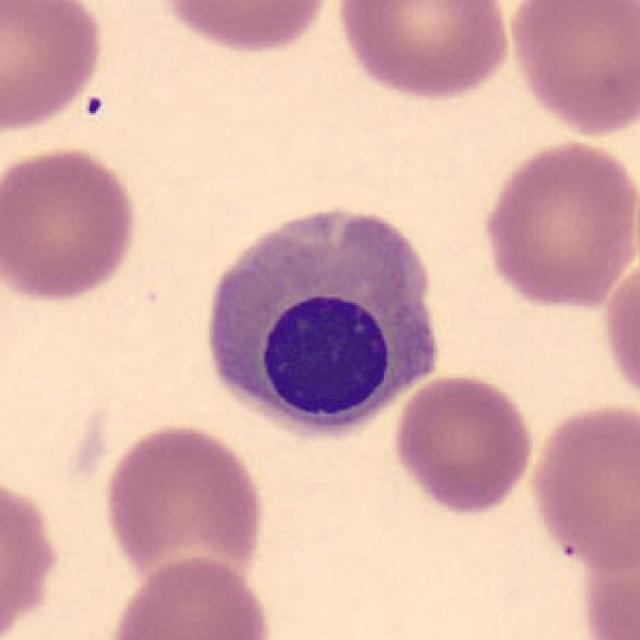White Blood Cell: (212, 212, 434, 423)
